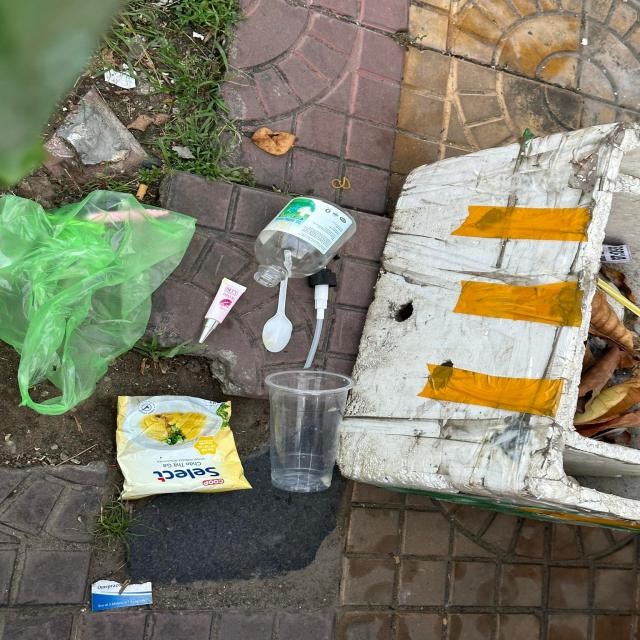bag: (0, 190, 198, 418)
bottle: (254, 196, 356, 288)
plastic glass: (264, 370, 356, 492)
plastic utensil: (262, 250, 294, 352)
snack package: (116, 395, 253, 499)
